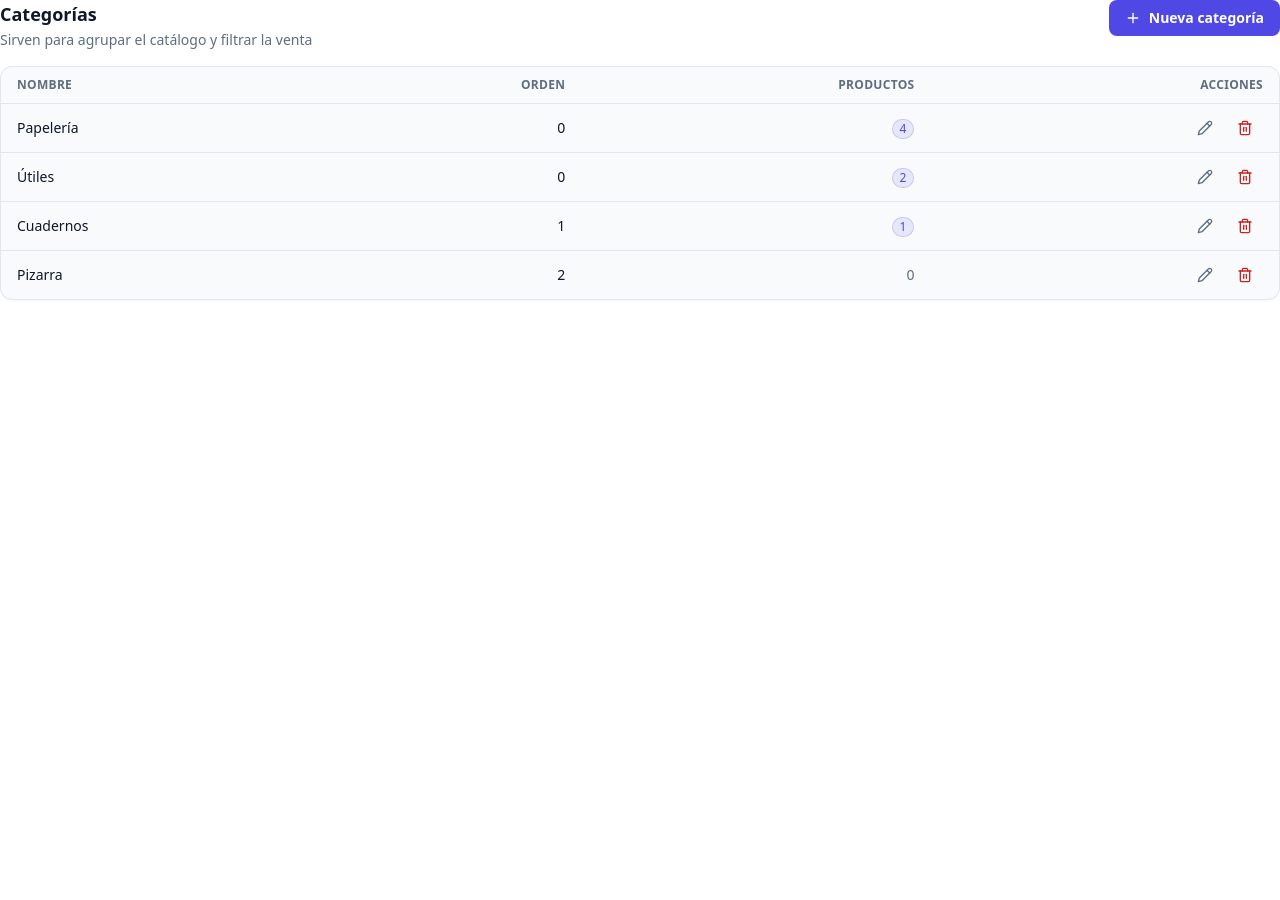
CategoriasPage › al editar trae el nombre y el orden que ya tenía
Click the button named "Editar Cuadernos" at (1205, 226), box [1187, 212, 1223, 240]
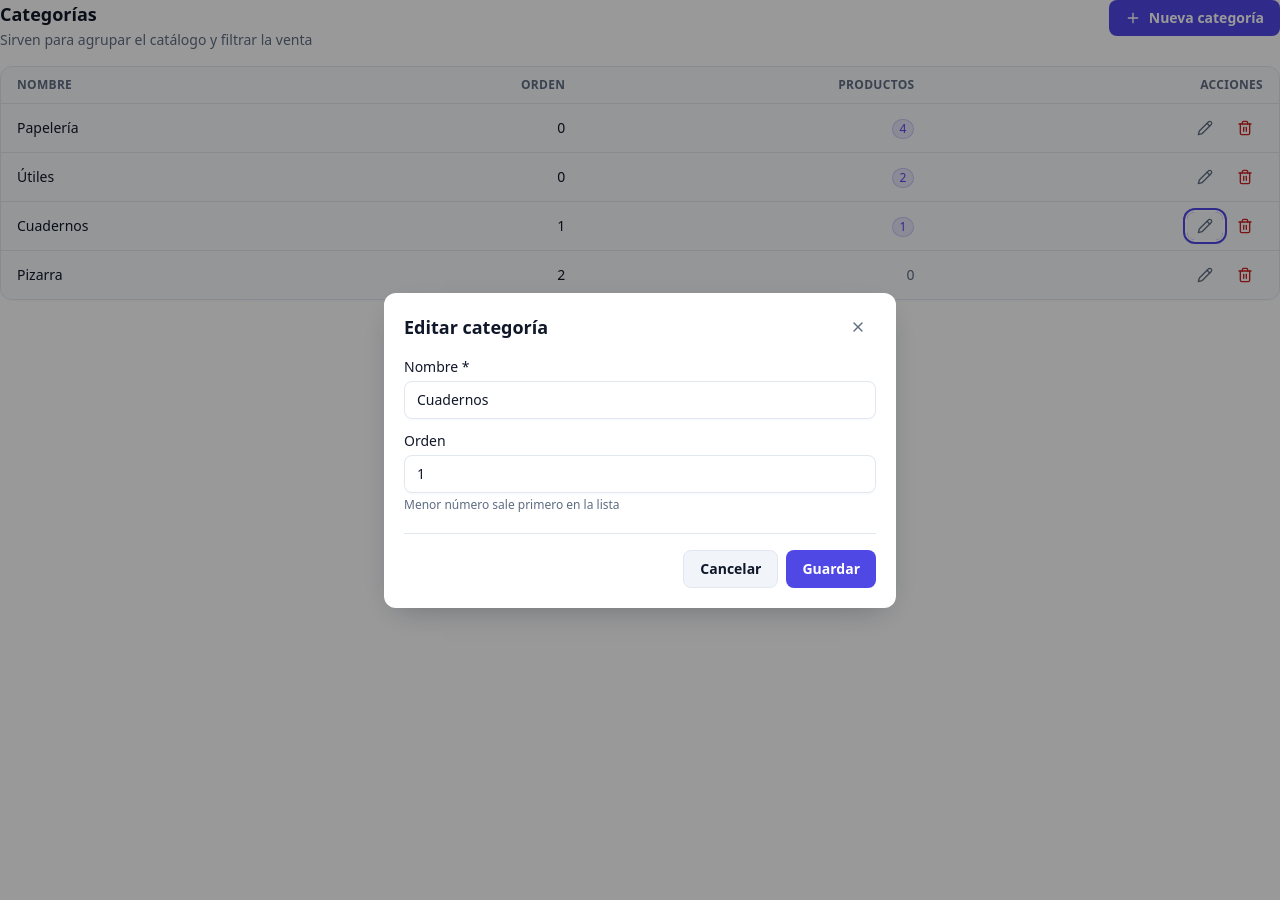
Expected: the number field labelled "Orden" holds "1", [404, 454, 876, 492]
Expected: the field labelled "Nombre *" holds "Cuadernos", [404, 380, 876, 418]
